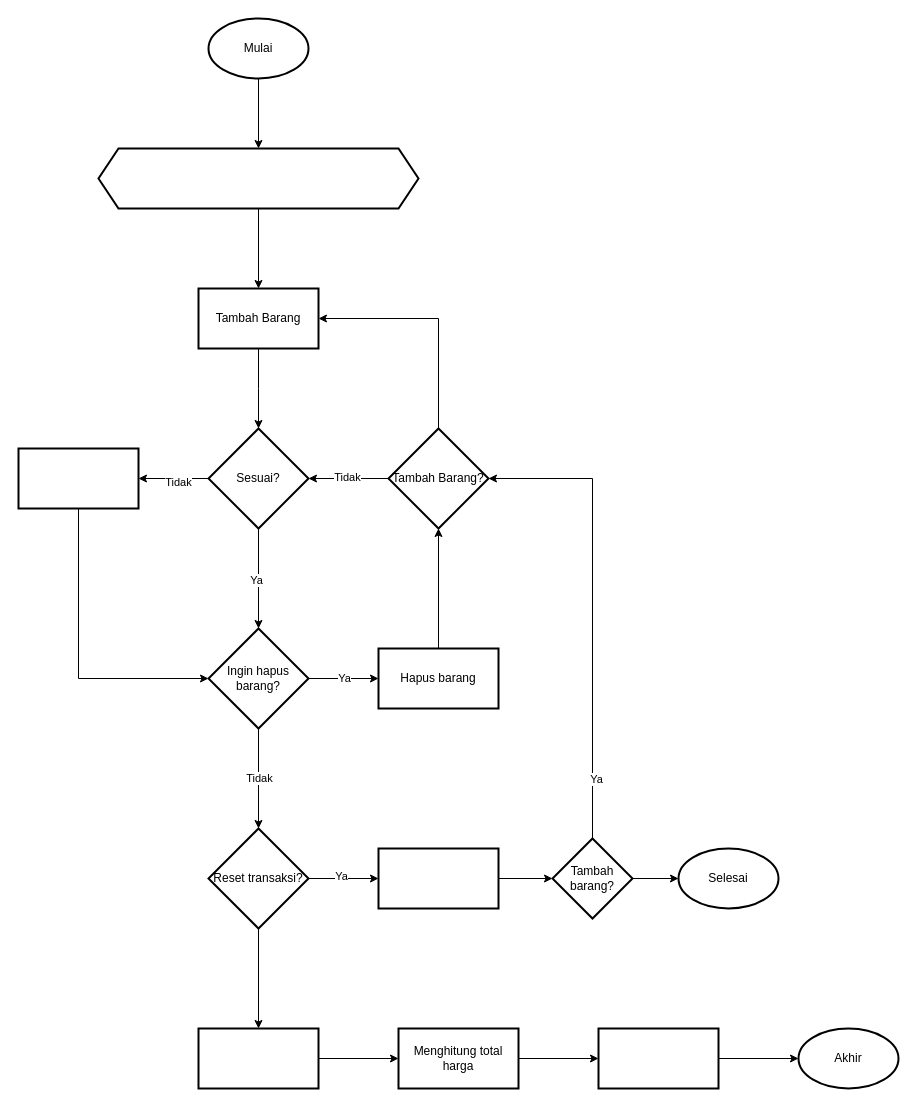
Image size: 916x1106. Some labels were removed from this diagram. Here are the shapes that lost their labels. From the top down, the centre of each, then its label:
At (258,178): "Transaksi transaksi = new Transaksi ();".
At (78,478): "Ubah nama barang, Ubah jumlah barang, Ubah harga barang".
At (438,878): "Reset transaksi".
At (258,1058): "Cek pesanan".
At (658,1058): "Menghitung harga setelah diskon".
